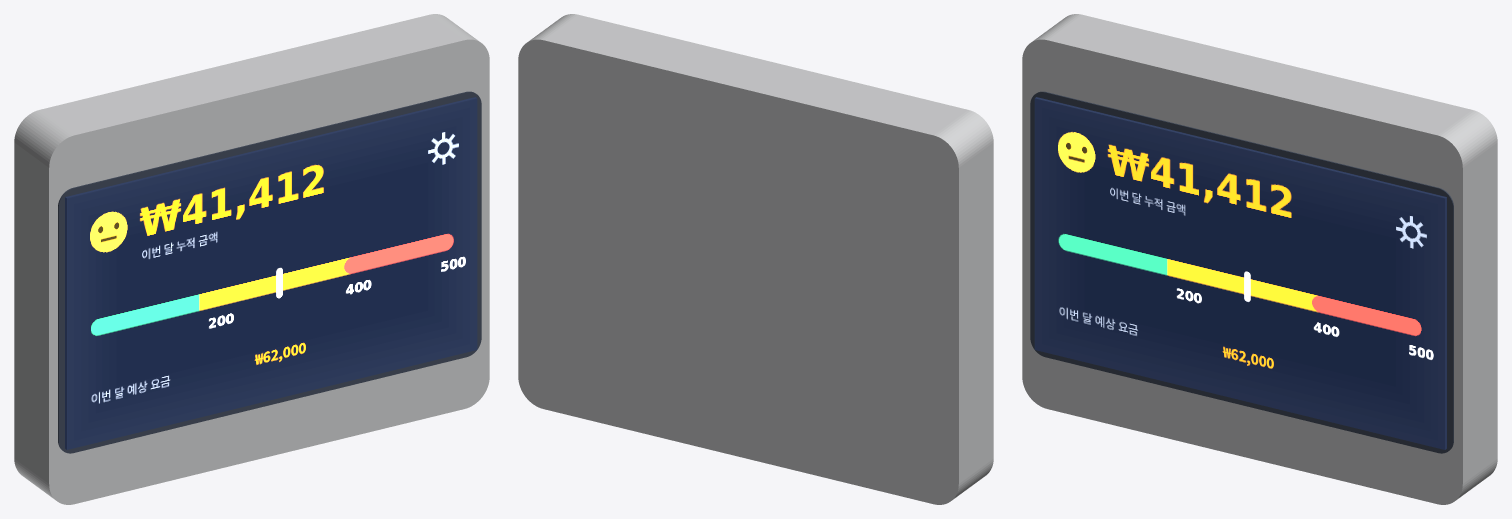
Rendered from powerboard.glb.
The picture shows the model from 3 angles, left to right: view 1: azimuth 30°, elevation 25°; view 2: azimuth 150°, elevation 25°; view 3: azimuth 330°, elevation 25°; orthographic projection.
Visible parts, largest first — view 1: screen, body, bezel; view 2: body; view 3: screen, body, bezel.
Boxes of the visible parts, x1,y1,x2,y2 form: screen: (65,97,477,449); body: (14,14,489,504); bezel: (58,91,481,453); body: (518,14,993,504); screen: (1034,97,1446,449); body: (1022,14,1497,504); bezel: (1030,91,1453,453).
Size of the model in its own units: 0.175 by 0.14 by 0.0258.
Materials: 1 (1 with a texture image).
